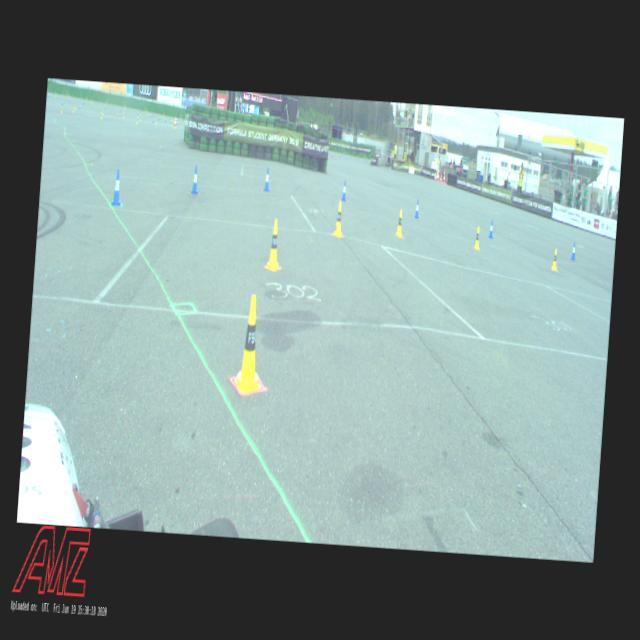blue_cone: (110, 170, 123, 207), (190, 166, 198, 193), (264, 168, 270, 191), (488, 220, 494, 238), (570, 242, 576, 260), (414, 200, 419, 217), (342, 182, 346, 200)
large_orange_cone: (442, 168, 446, 184), (436, 168, 439, 182)
yellow_cone: (232, 293, 266, 393), (264, 218, 282, 270), (333, 202, 344, 236), (396, 209, 404, 237), (474, 227, 481, 250), (551, 248, 558, 270), (61, 106, 62, 113)
